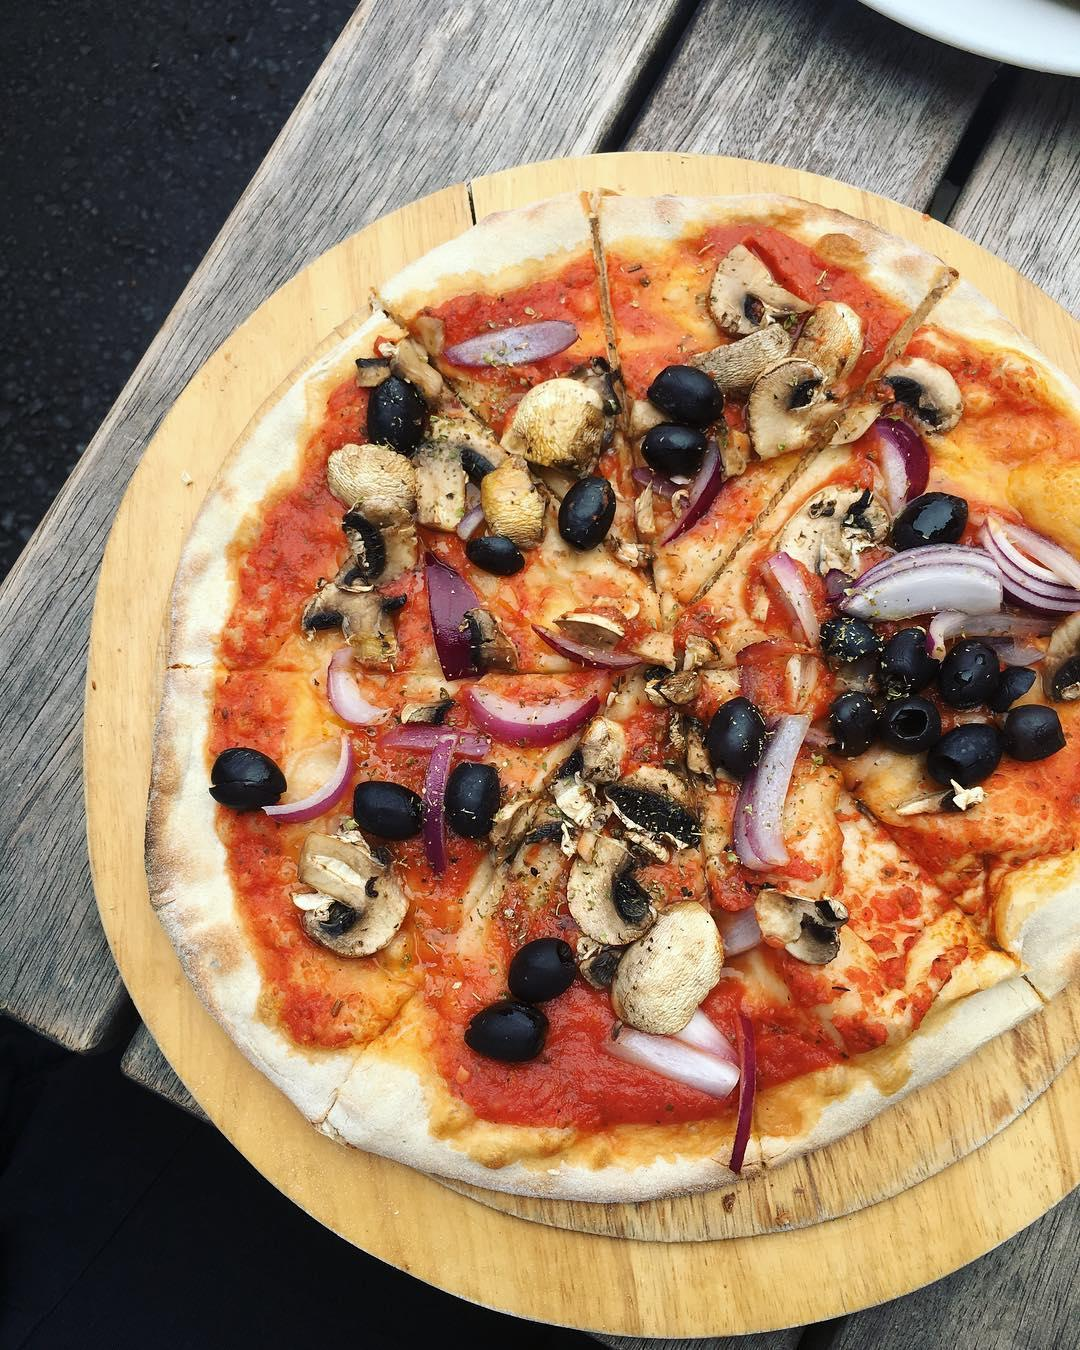Chicken: (601, 890, 728, 1026), (321, 449, 433, 526), (496, 376, 612, 451), (478, 451, 563, 540), (685, 328, 782, 378), (409, 446, 472, 522)
Mushroom: (295, 511, 414, 663), (301, 829, 408, 958), (581, 719, 694, 813), (703, 244, 810, 339), (786, 483, 885, 564), (559, 833, 641, 927), (756, 360, 834, 454), (748, 890, 844, 963), (890, 356, 964, 433)
Olives: (206, 741, 283, 810), (461, 1001, 548, 1055), (705, 695, 763, 769), (446, 760, 506, 830), (900, 496, 966, 554), (559, 480, 613, 550), (881, 633, 941, 693), (646, 368, 726, 413), (356, 781, 428, 831), (943, 721, 998, 785), (366, 384, 423, 443), (941, 646, 996, 703), (467, 533, 527, 586), (508, 946, 574, 993), (651, 419, 710, 472), (825, 695, 876, 752), (881, 701, 937, 745), (1008, 711, 1067, 752), (825, 614, 870, 665)
Onion: (606, 1026, 762, 1140), (741, 705, 811, 868), (846, 553, 1002, 623), (456, 679, 603, 749), (981, 514, 1080, 616), (253, 746, 356, 821), (451, 321, 586, 369), (421, 555, 478, 670), (321, 658, 395, 739), (668, 449, 726, 547), (415, 741, 458, 872), (873, 425, 938, 496)
Pizza: (151, 188, 1080, 1207)
